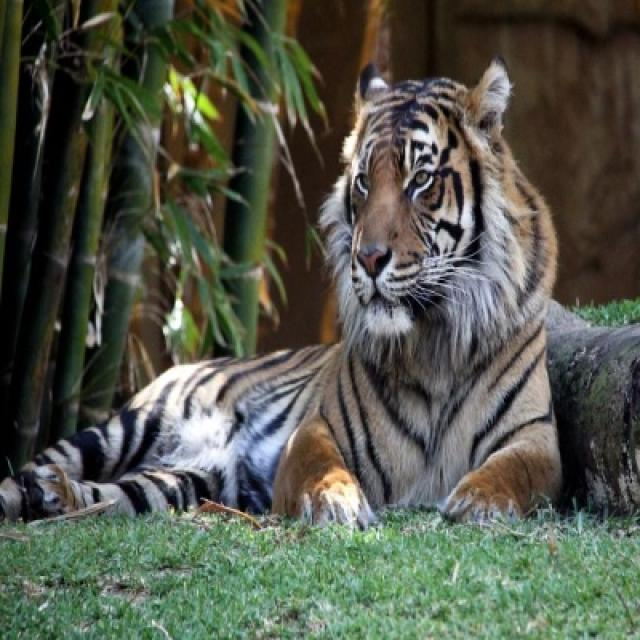Tiger: (2, 60, 562, 521)
